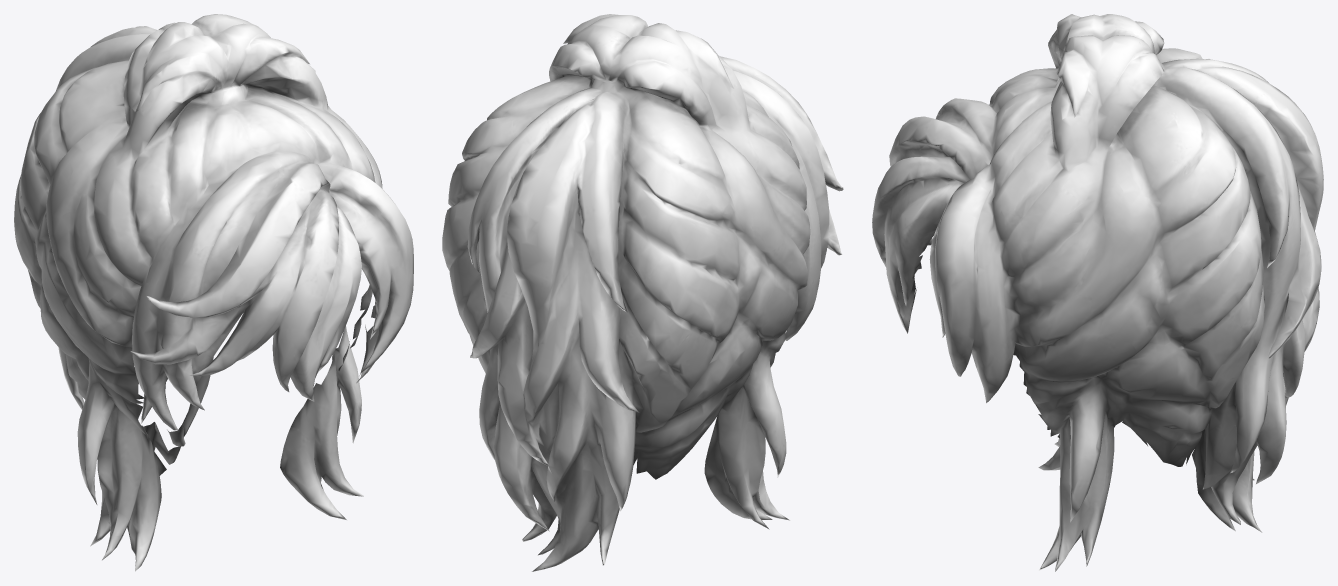
File: hair-pony.glb
3 views of the same model, side by side, from view 1: azimuth 30°, elevation 25°; view 2: azimuth 150°, elevation 25°; view 3: azimuth 270°, elevation 25° (orthographic).
Parts seen in each view (by area): view 1: tripo_node_6525a6cf-be45-425e-9c94-7bdc5c86cfaf; view 2: tripo_node_6525a6cf-be45-425e-9c94-7bdc5c86cfaf; view 3: tripo_node_6525a6cf-be45-425e-9c94-7bdc5c86cfaf.
Part boxes in pixels (x1,y1,x2,y2): tripo_node_6525a6cf-be45-425e-9c94-7bdc5c86cfaf: (14, 14, 413, 571); tripo_node_6525a6cf-be45-425e-9c94-7bdc5c86cfaf: (442, 14, 843, 571); tripo_node_6525a6cf-be45-425e-9c94-7bdc5c86cfaf: (872, 14, 1323, 571).
Bounding box in the file's own units: 0.191 × 0.3 × 0.2483.
1 material, 1 textured.
